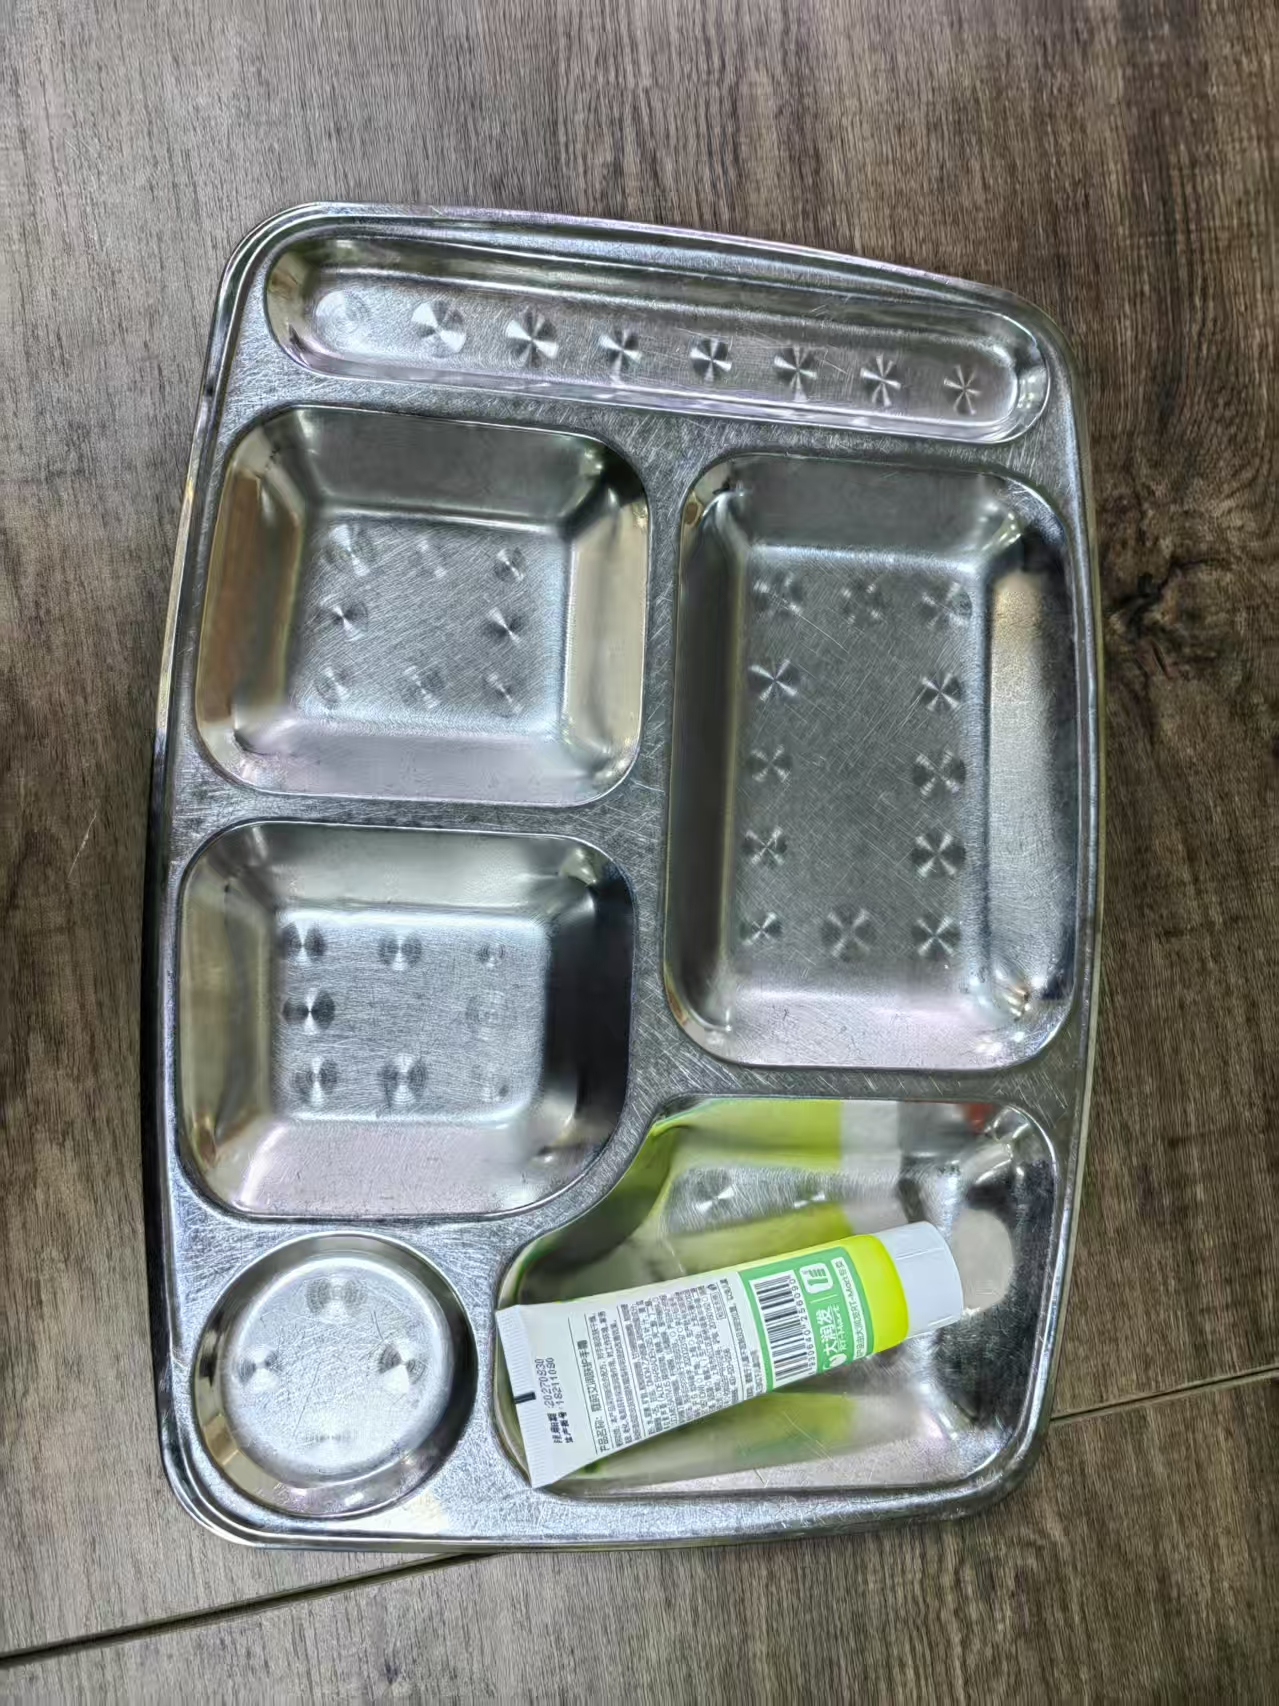mild: (493, 1218, 967, 1482)
plate: (154, 195, 1103, 1536)
